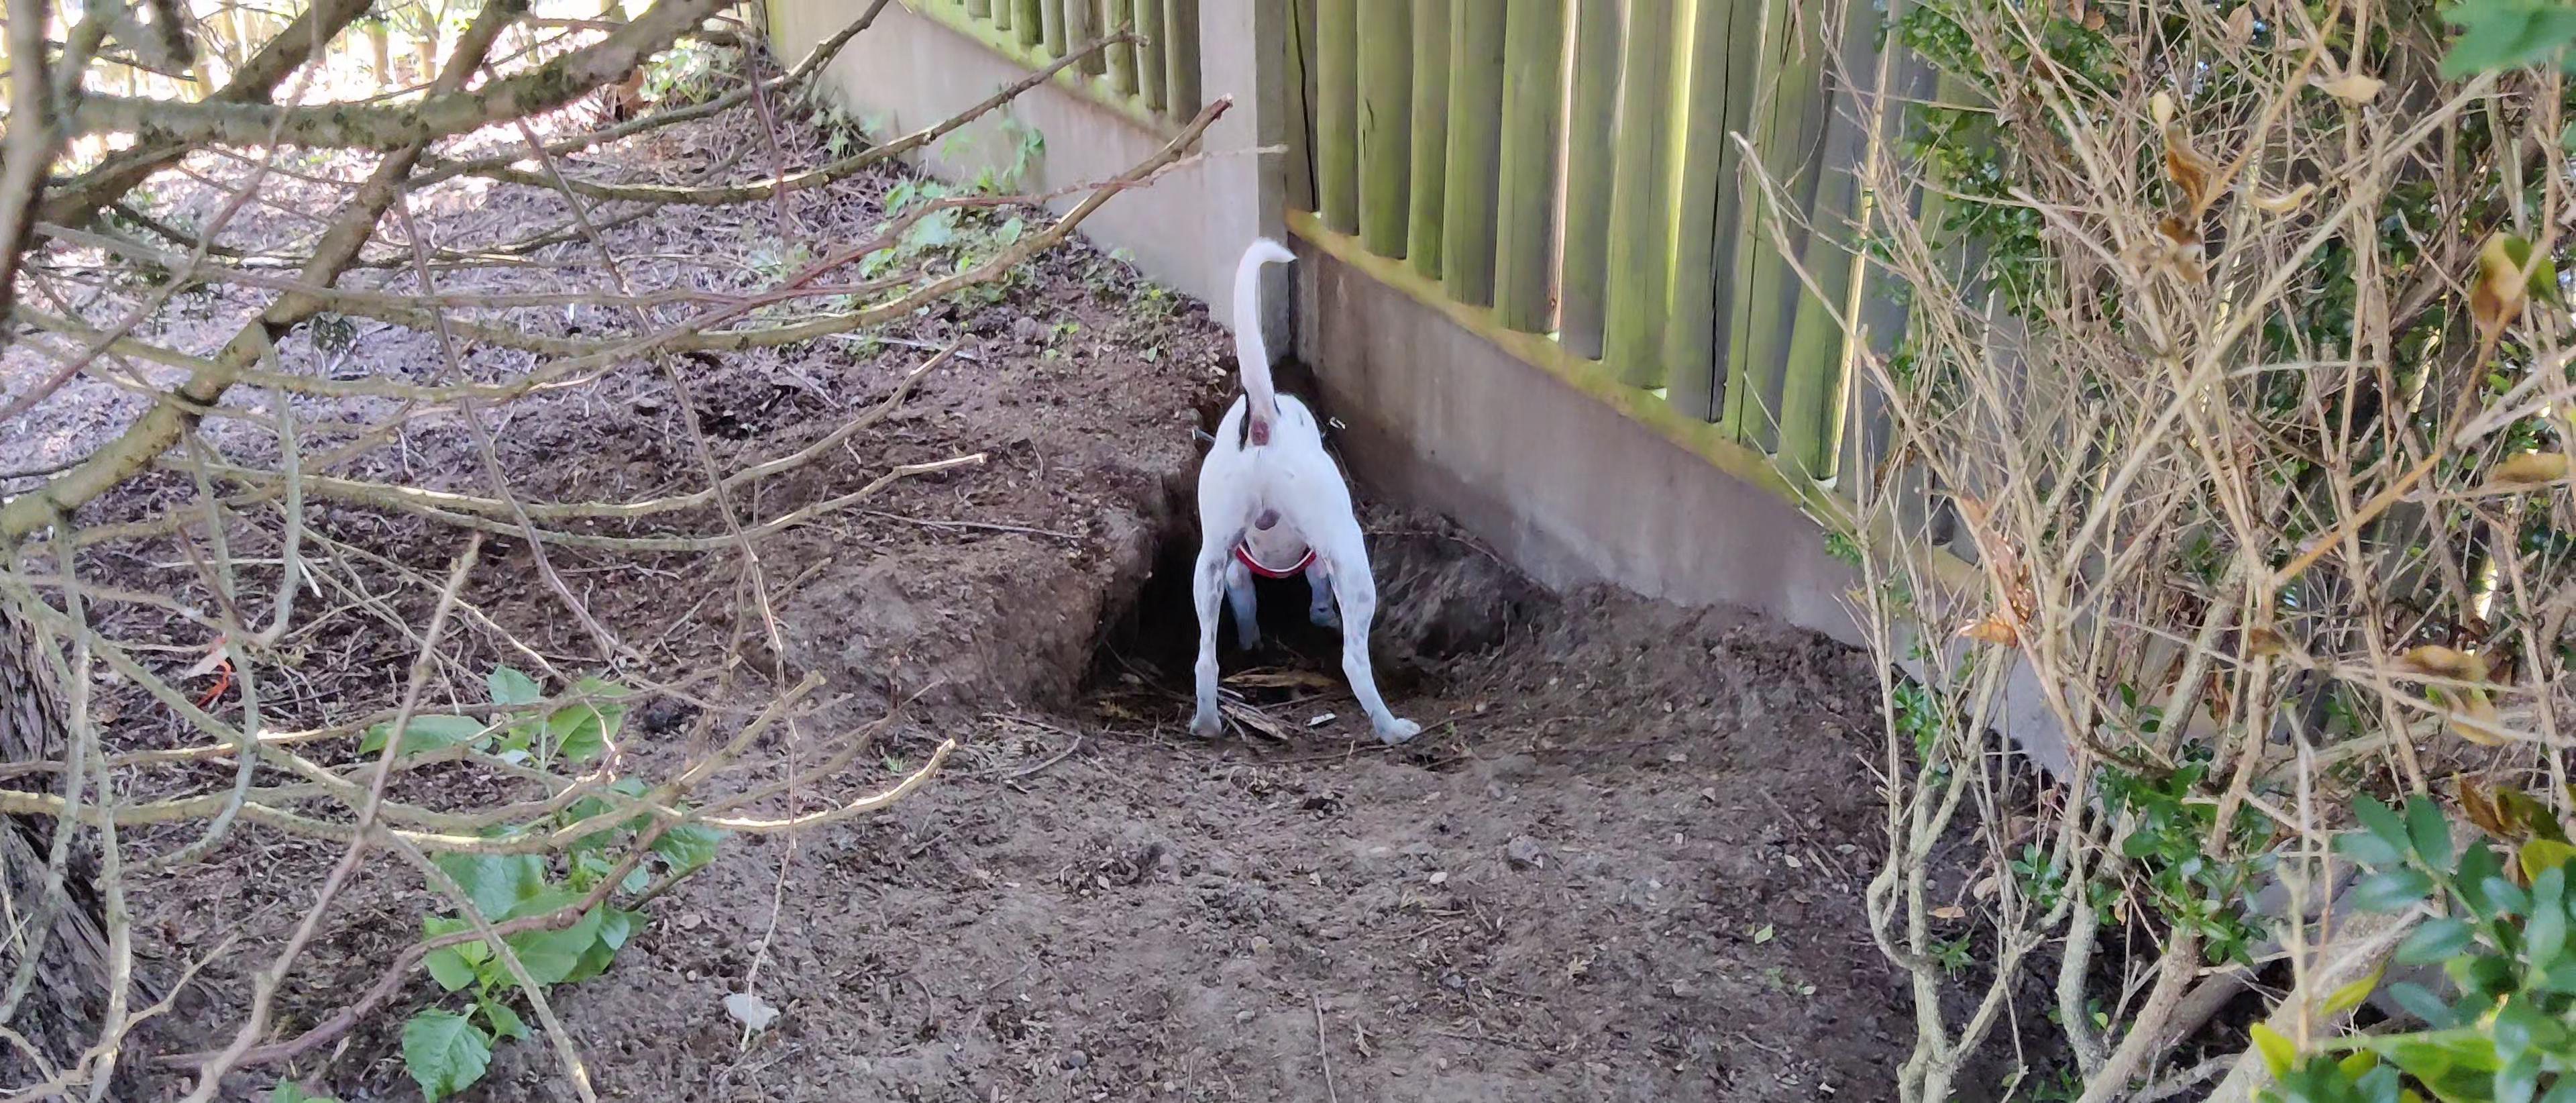Dog: (1166, 205, 1431, 763)
